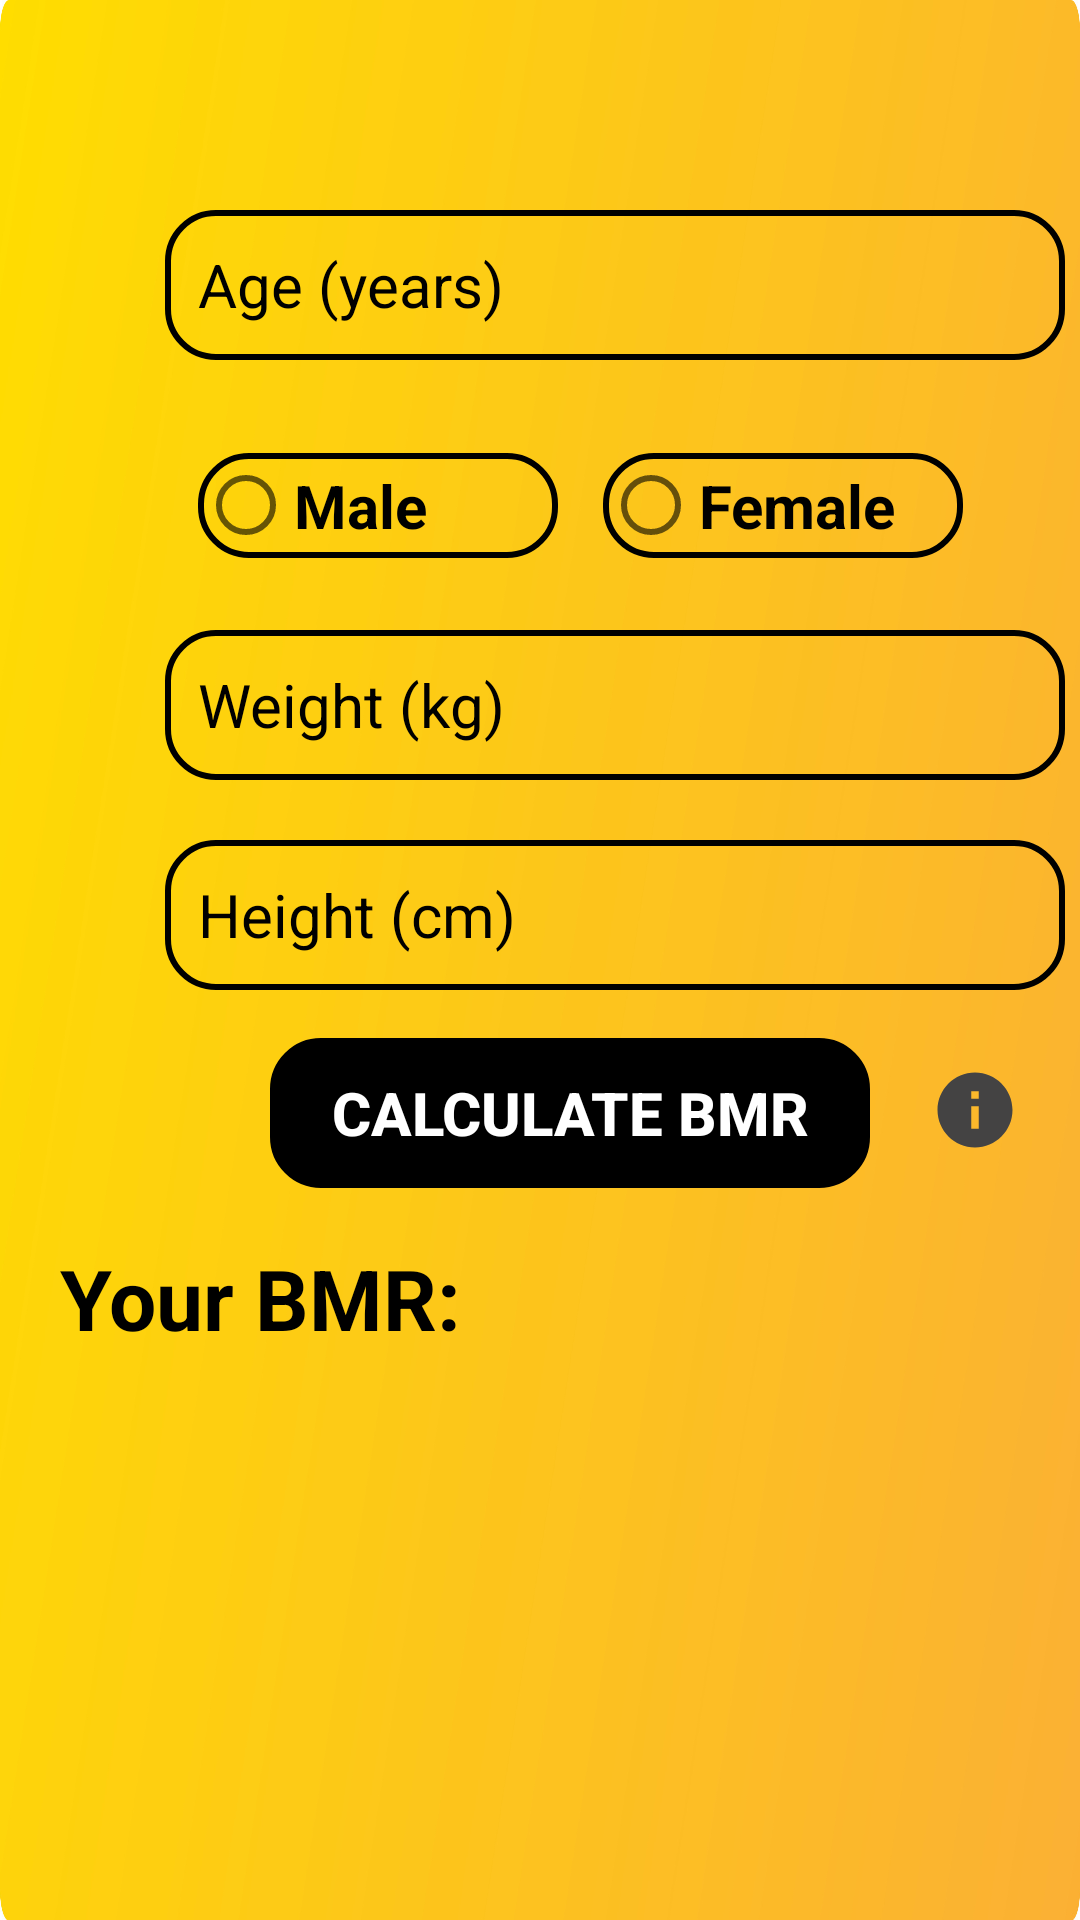

Icons on this 1080 x 1920 Android screen, each with its box as (x1, y1, x2, y2):
info: (937, 1072, 1013, 1148)
